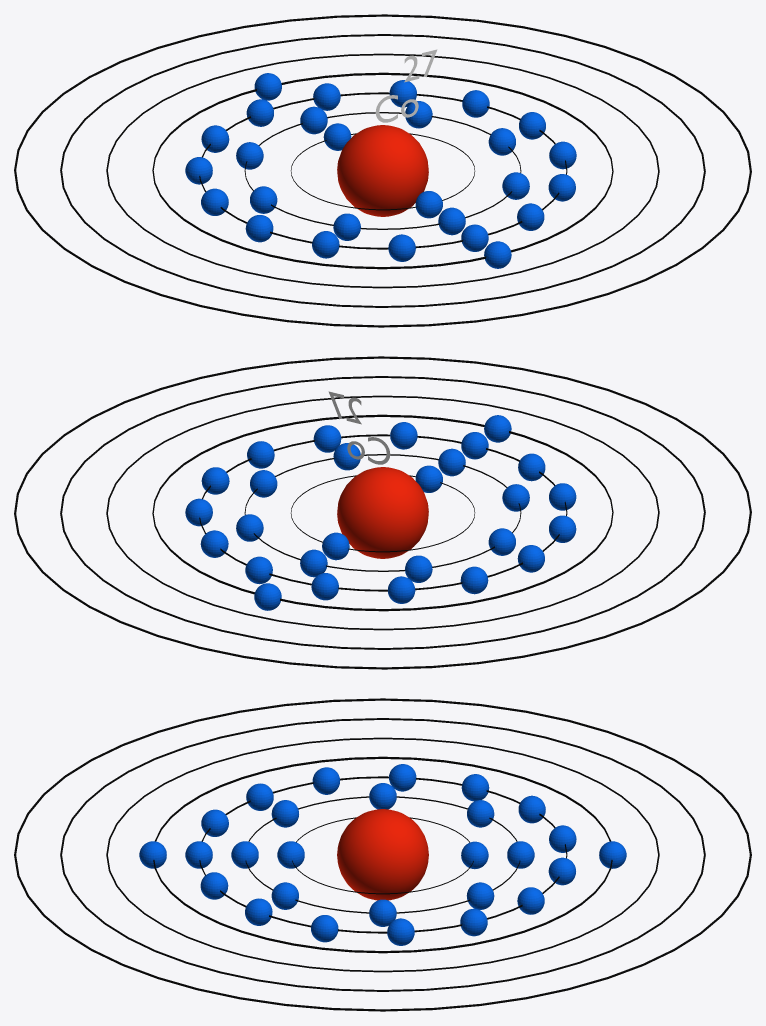
The picture shows the model from 3 angles, top to bottom: view 1: azimuth 30°, elevation 25°; view 2: azimuth 150°, elevation 25°; view 3: azimuth 270°, elevation 25°; orthographic projection.
Parts seen in each view (by area): view 1: Co3, Proton, Co2, n7, n6, n5, n4, Co4, Co1, n3, n2; view 2: Co3, Proton, Co2, n7, n6, n5, n4, Co4, Co1, n3, n2; view 3: Co3, Proton, Co2, n7, n6, n5, n4, Co1, Co4, n3, n2, n1.
Part boxes in pixels (box(x1,y1,x2,y2)): Co3: box(185, 80, 576, 261); Proton: box(337, 125, 428, 216); Co2: box(236, 101, 529, 240); n7: box(14, 14, 751, 327); n6: box(60, 34, 705, 307); n5: box(106, 53, 659, 288); n4: box(152, 72, 613, 269); Co4: box(254, 73, 511, 268); Co1: box(323, 123, 442, 218); n3: box(199, 92, 567, 249); n2: box(244, 112, 521, 229); Co3: box(185, 422, 576, 603); Proton: box(337, 467, 428, 558); Co2: box(236, 443, 529, 582); n7: box(14, 356, 751, 669); n6: box(60, 376, 705, 649); n5: box(106, 395, 659, 630); n4: box(152, 414, 613, 611); Co4: box(254, 415, 511, 610); Co1: box(322, 465, 442, 560); n3: box(199, 434, 567, 591); n2: box(244, 454, 521, 571); Co3: box(185, 764, 576, 945); Proton: box(337, 809, 428, 900); Co2: box(231, 783, 534, 926); n7: box(14, 698, 751, 1011); n6: box(60, 718, 705, 991); n5: box(106, 737, 659, 972); n4: box(153, 756, 612, 953); Co1: box(277, 841, 488, 869); Co4: box(139, 841, 626, 868); n3: box(199, 776, 567, 933); n2: box(245, 796, 520, 913); n1: box(292, 817, 473, 894).
Size of the model in its own units: 802 by 180 by 802.
